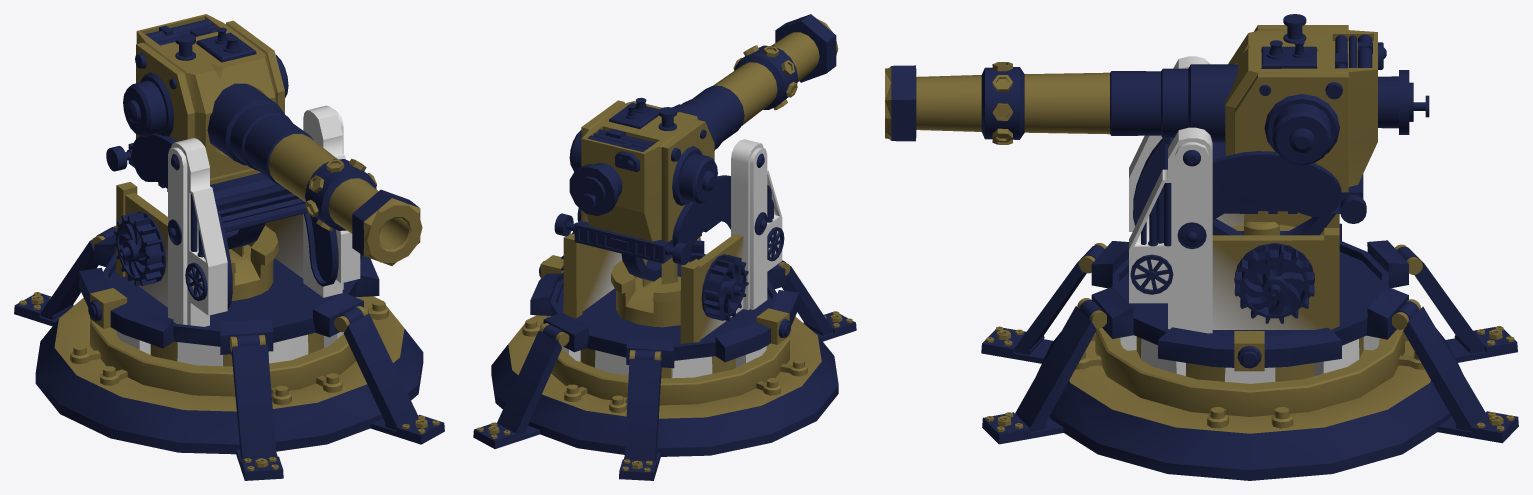
File: tower_cannon.fbx
3 views of the same model, side by side, from view 1: azimuth 30°, elevation 25°; view 2: azimuth 150°, elevation 25°; view 3: azimuth 270°, elevation 25° (orthographic). The views are drawn at different scales.
Parts seen in each view (by area): view 1: tower_cannon_stand, tower_cannon_cannon, tower_cannon_rack, tower_cannon_emissionPart_2, tower_cannon_emissionPart_1; view 2: tower_cannon_stand, tower_cannon_cannon, tower_cannon_rack, tower_cannon_emissionPart_1, tower_cannon_emissionPart_2; view 3: tower_cannon_stand, tower_cannon_cannon, tower_cannon_rack, tower_cannon_emissionPart_1, tower_cannon_emissionPart_2.
Boxes of the visible parts, x1,y1,x2,y2 form: tower_cannon_stand: (14, 225, 444, 480); tower_cannon_cannon: (106, 14, 422, 265); tower_cannon_rack: (113, 105, 362, 326); tower_cannon_emissionPart_2: (133, 56, 408, 249); tower_cannon_emissionPart_1: (116, 331, 343, 366); tower_cannon_stand: (473, 237, 856, 480); tower_cannon_cannon: (554, 14, 838, 281); tower_cannon_rack: (561, 139, 784, 343); tower_cannon_emissionPart_1: (561, 346, 766, 378); tower_cannon_emissionPart_2: (571, 131, 708, 203); tower_cannon_stand: (981, 223, 1518, 480); tower_cannon_cannon: (885, 14, 1429, 235); tower_cannon_rack: (1129, 56, 1341, 333); tower_cannon_emissionPart_1: (1120, 335, 1379, 383); tower_cannon_emissionPart_2: (1110, 64, 1332, 137).
Size of the model in its own units: 60.86 by 55.87 by 89.51.
